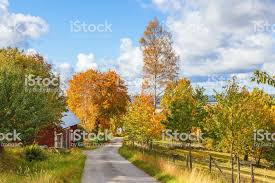sky: (4, 2, 275, 73)
tree: (129, 25, 187, 156), (4, 53, 62, 160), (69, 70, 127, 151), (217, 80, 275, 161), (159, 79, 217, 160)
